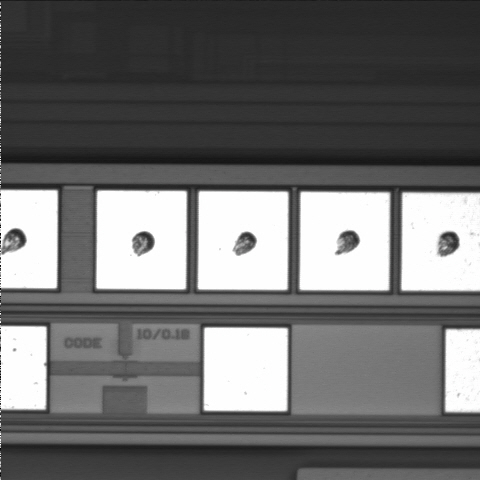pad: (96, 191, 187, 289), (198, 191, 288, 290), (300, 192, 390, 290), (204, 328, 288, 411)
